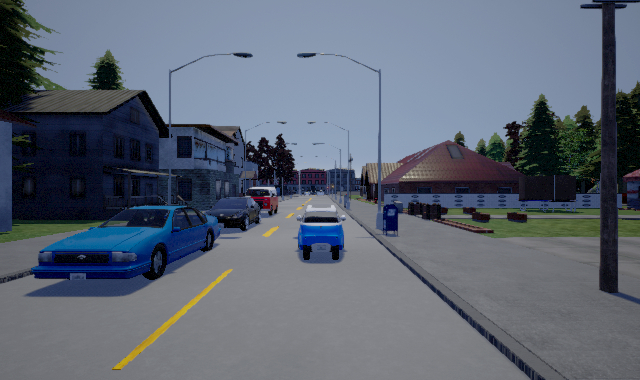vehicle: (34, 202, 220, 283), (296, 205, 346, 260), (207, 196, 262, 232), (243, 186, 278, 215)
